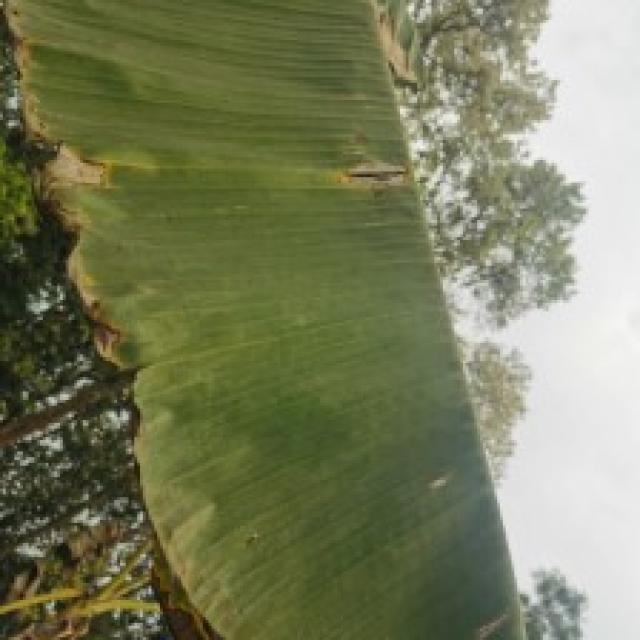Downey_mildrew: (0, 0, 513, 640)
